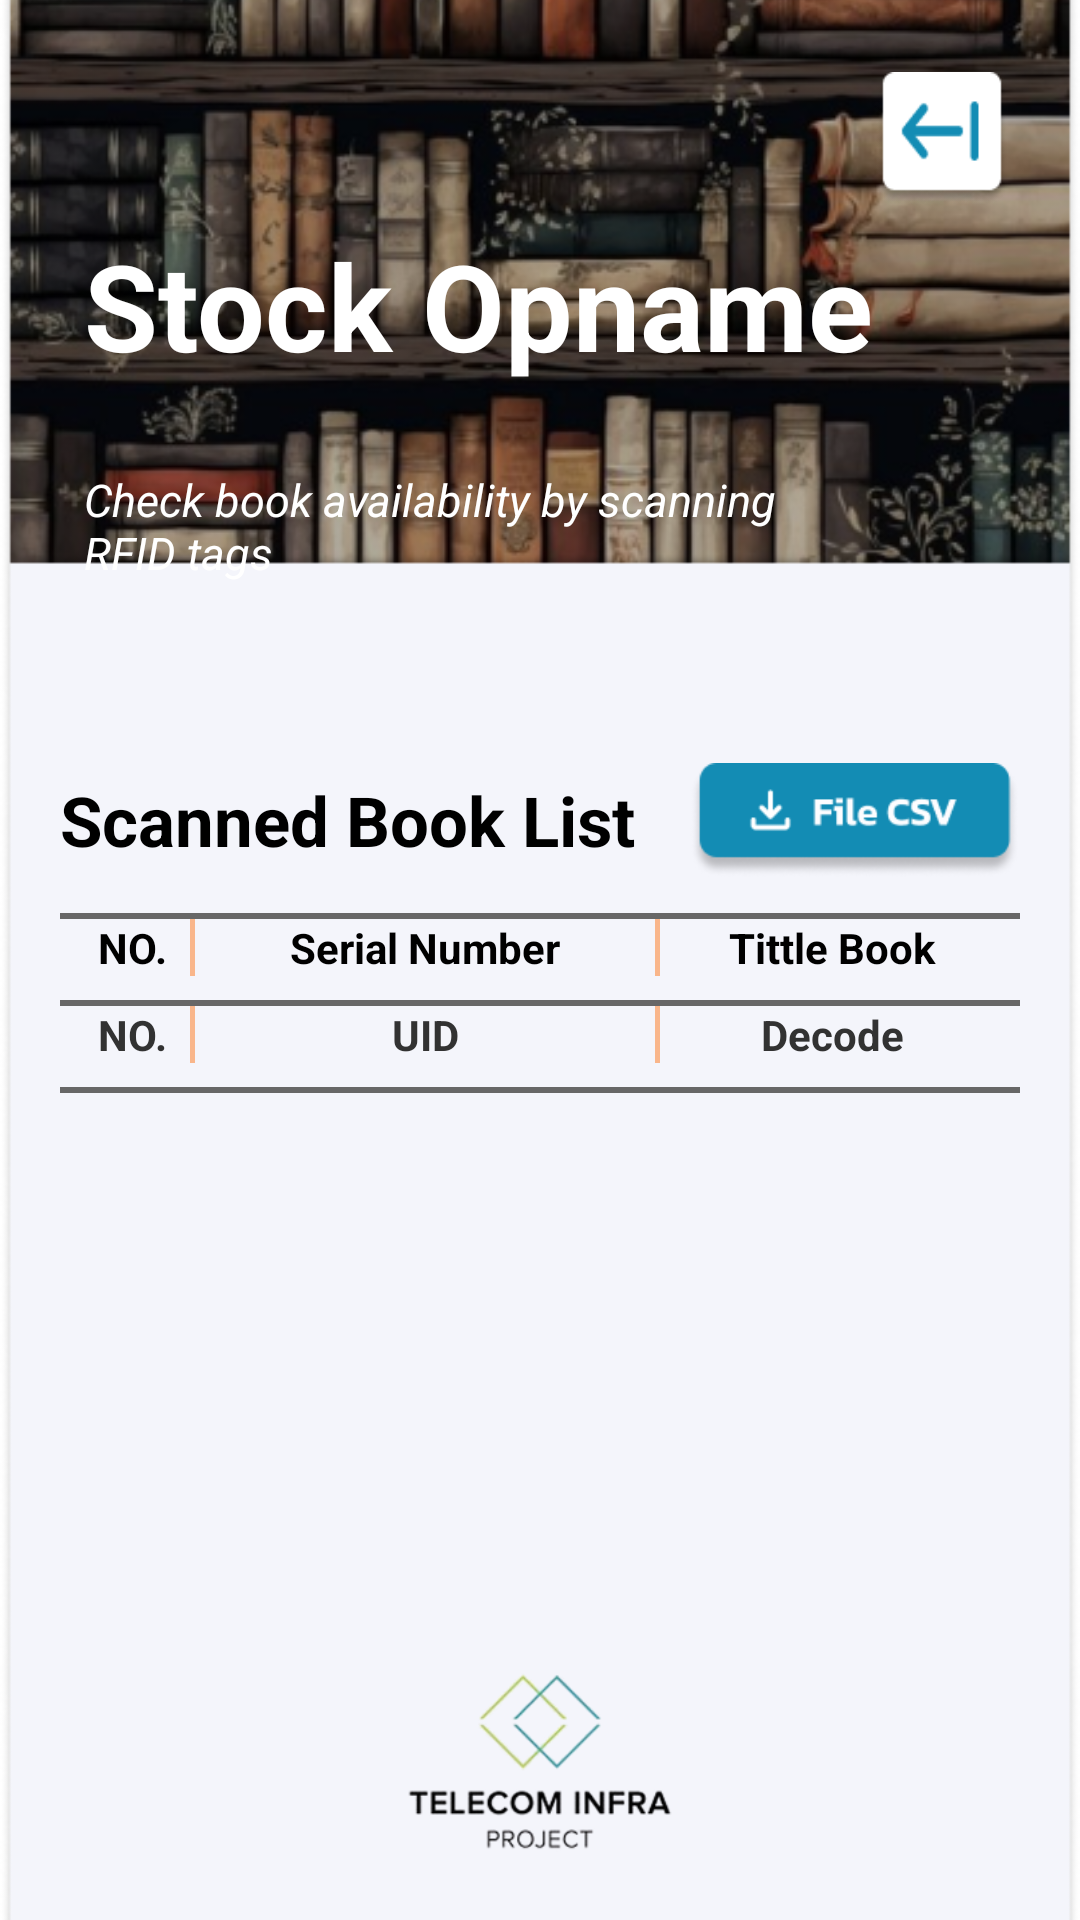

Icons on this 1080×1920 Android screen, each with the point to tap as (x,y):
Back Button: (942,138)
